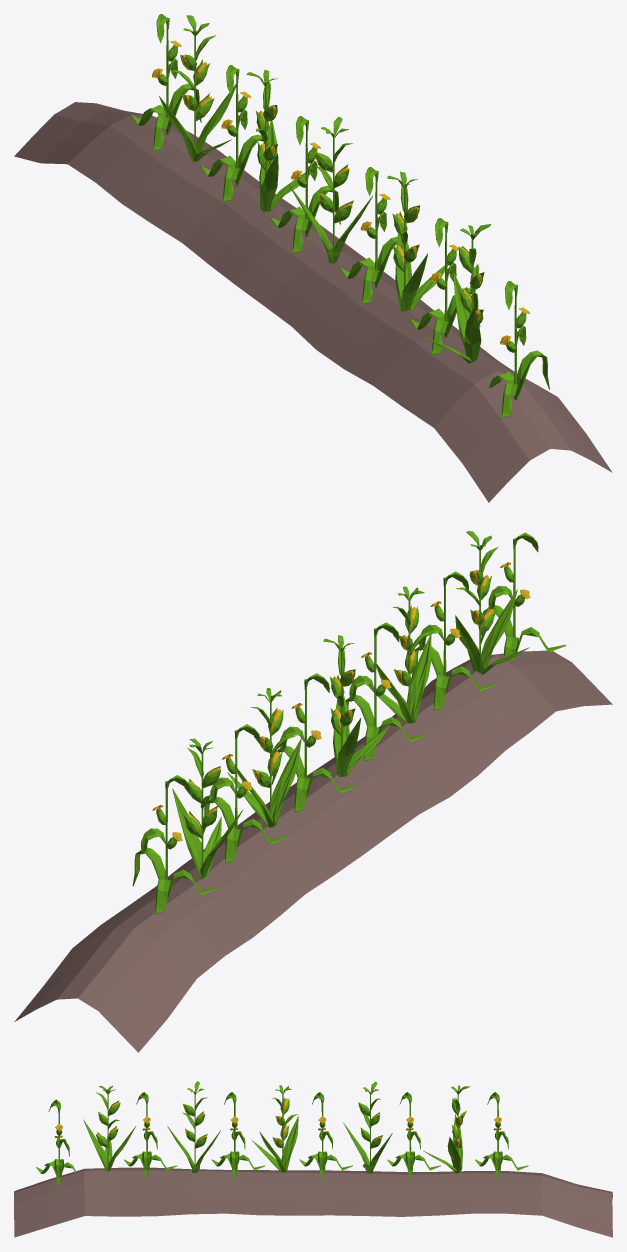
File: 008 Corn_Plants.FBX
3 views of the same model, one above another, from view 1: azimuth 30°, elevation 25°; view 2: azimuth 150°, elevation 25°; view 3: azimuth 270°, elevation 25° (orthographic). The views are drawn at different scales.
Visible parts, largest first — view 1: Plane137, corn4187, corn4181, corn4179, corn4185, corn4183, corn4180, corn4188, corn4186, corn4184, corn4190, corn4182; view 2: Plane137, corn4181, corn4187, corn4185, corn4179, corn4183, corn4190, corn4188, corn4182, corn4184, corn4186, corn4180; view 3: Plane137, corn4183, corn4179, corn4185, corn4181, corn4187, corn4188, corn4184, corn4186, corn4190, corn4182, corn4180.
Boxes of the visible parts, x1,y1,x2,y2 form: Plane137: (14,102,612,502); corn4187: (159,15,238,162); corn4181: (387,171,448,312); corn4179: (424,224,490,363); corn4185: (246,69,318,212); corn4183: (289,116,372,263); corn4180: (489,281,549,418); corn4188: (200,65,264,202); corn4186: (269,116,340,253); corn4184: (339,167,397,304); corn4190: (130,14,201,151); corn4182: (409,218,480,355); Plane137: (14,650,612,1052); corn4181: (358,586,432,723); corn4187: (172,738,242,880); corn4185: (227,688,301,828); corn4179: (455,531,529,674); corn4183: (323,635,390,777); corn4190: (132,775,218,914); corn4188: (203,724,287,863); corn4182: (411,571,496,710); corn4184: (345,622,426,761); corn4186: (272,673,357,812); corn4180: (481,532,565,661); Plane137: (14,1167,612,1237); corn4183: (252,1085,298,1172); corn4179: (83,1085,135,1171); corn4185: (343,1081,392,1173); corn4181: (167,1081,220,1173); corn4187: (423,1085,469,1174); corn4188: (387,1092,440,1180); corn4184: (211,1092,265,1180); corn4186: (299,1092,352,1180); corn4190: (475,1092,528,1180); corn4182: (124,1092,177,1180); corn4180: (36,1099,76,1187).
Bounding box in the file's own units: 82.54 × 126 × 519.
